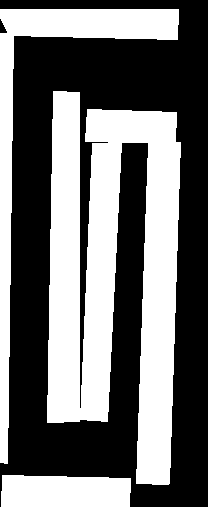parkingspot: (136, 142, 180, 484), (80, 143, 121, 421), (47, 91, 79, 422), (0, 33, 13, 463), (0, 9, 178, 39), (1, 475, 130, 507), (85, 109, 176, 143)
